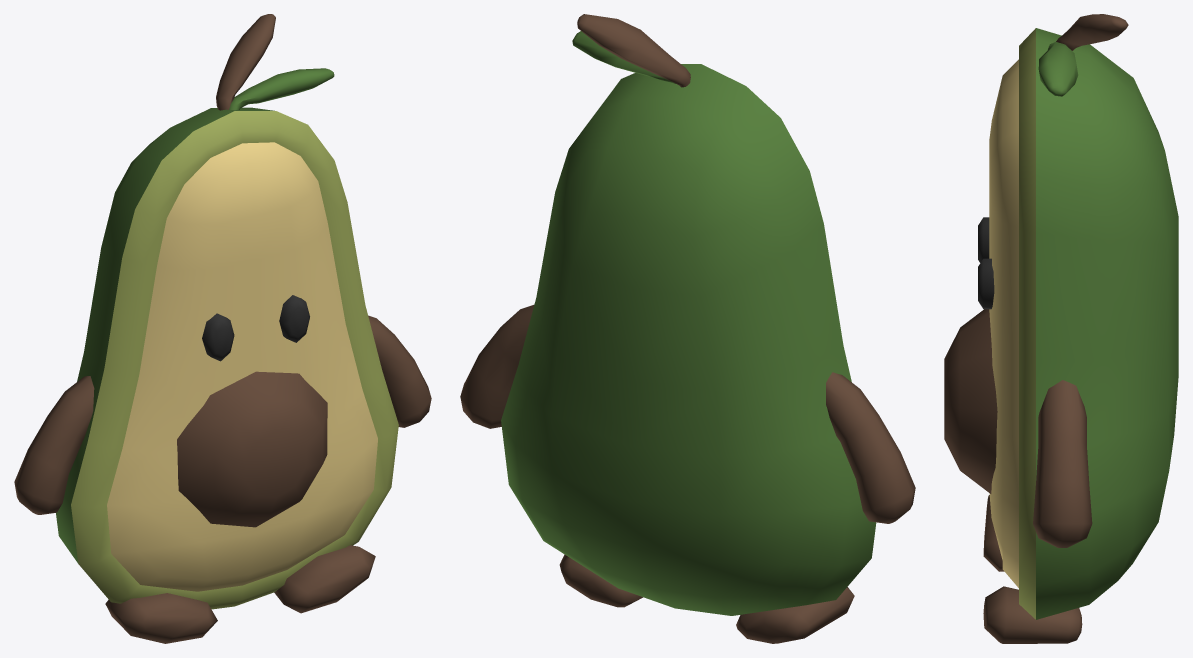
File: Avocado_01.fbx
3 views of the same model, side by side, from view 1: azimuth 30°, elevation 25°; view 2: azimuth 150°, elevation 25°; view 3: azimuth 270°, elevation 25° (orthographic). The views are drawn at different scales.
Visible parts, largest first — view 1: Avocado_01; view 2: Avocado_01; view 3: Avocado_01.
Boxes of the visible parts, left/top/right/bottom form: Avocado_01: left=14, top=14, right=431, bottom=643; Avocado_01: left=460, top=14, right=915, bottom=643; Avocado_01: left=944, top=14, right=1178, bottom=643.
Bounding box in the file's own units: 0.2685 × 0.3474 × 0.119.
